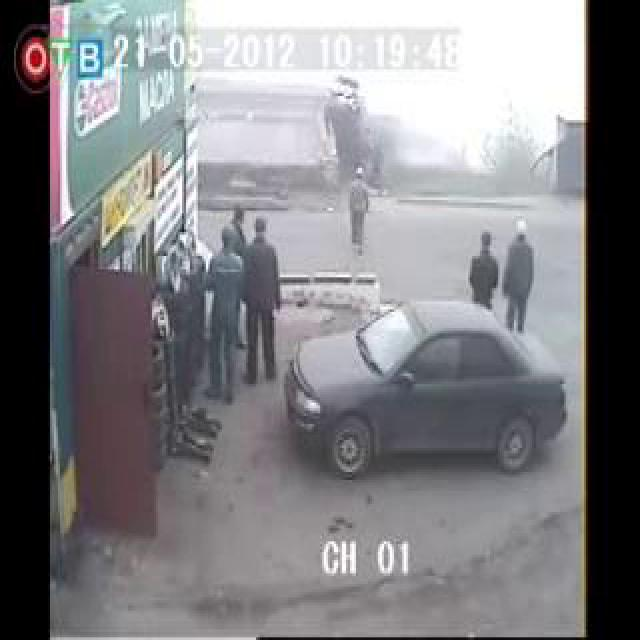road accidents: (236, 0, 542, 373)
